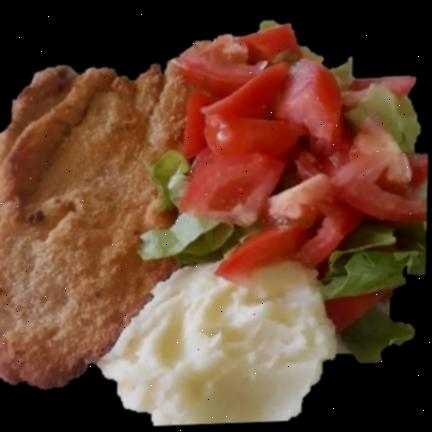meat: (0, 64, 187, 388)
potato: (99, 262, 336, 426)
salad: (321, 222, 427, 305), (138, 215, 255, 265), (339, 297, 415, 362), (349, 89, 420, 151), (150, 151, 189, 209)
tomato: (173, 25, 428, 281), (326, 291, 386, 330)
